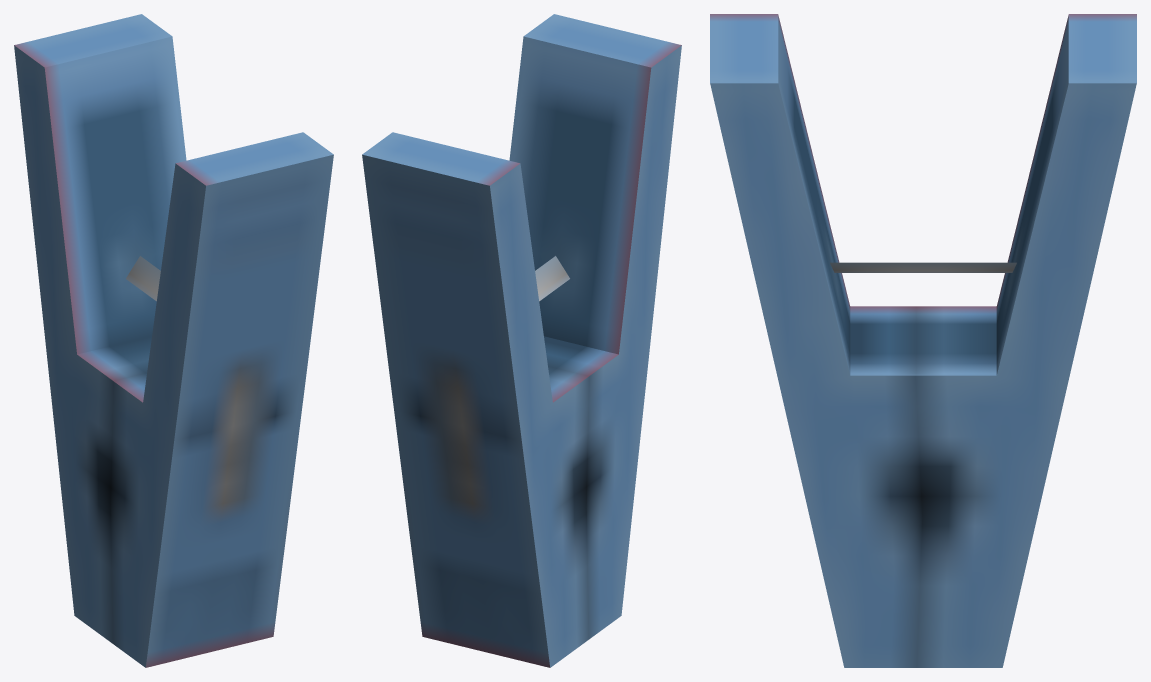
The model's file is jsf_Clothespin_01.fbx.
The picture shows the model from 3 angles, left to right: view 1: azimuth 30°, elevation 25°; view 2: azimuth 150°, elevation 25°; view 3: azimuth 270°, elevation 25°; orthographic projection. The views are drawn at different scales.
Parts seen in each view (by area): view 1: jsf_Clothespin_01; view 2: jsf_Clothespin_01; view 3: jsf_Clothespin_01.
Boxes of the visible parts, x1=… form: jsf_Clothespin_01: x1=14, y1=14, x2=333, y2=667; jsf_Clothespin_01: x1=362, y1=14, x2=681, y2=667; jsf_Clothespin_01: x1=710, y1=14, x2=1136, y2=667.
Size of the model in its own units: 1.65 by 6.5 by 4.3.
